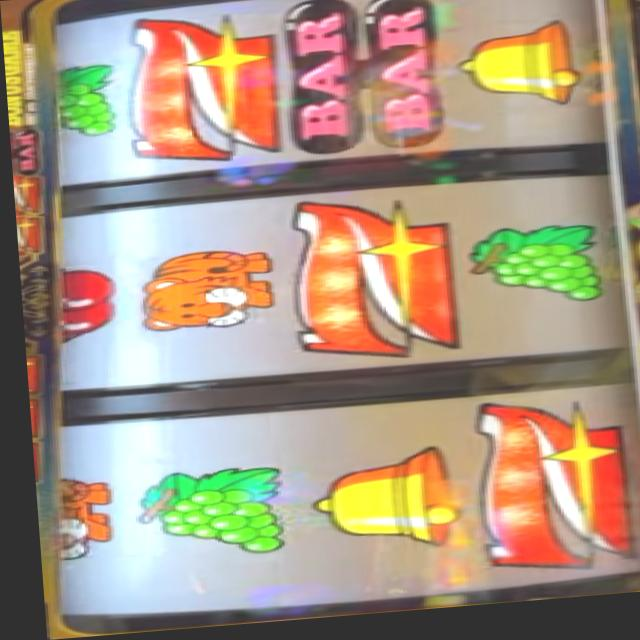bar: (284, 0, 436, 162), (7, 127, 41, 174)
bell: (300, 448, 458, 560), (448, 26, 585, 121)
cherry: (51, 262, 117, 346)
display: (8, 0, 631, 638)
grape: (122, 465, 285, 565), (459, 229, 604, 319), (52, 57, 121, 144)
tiger: (130, 248, 273, 337), (43, 472, 108, 562)
z: (280, 194, 460, 371), (464, 401, 625, 585), (118, 10, 286, 171), (10, 174, 42, 213), (13, 214, 42, 255)
